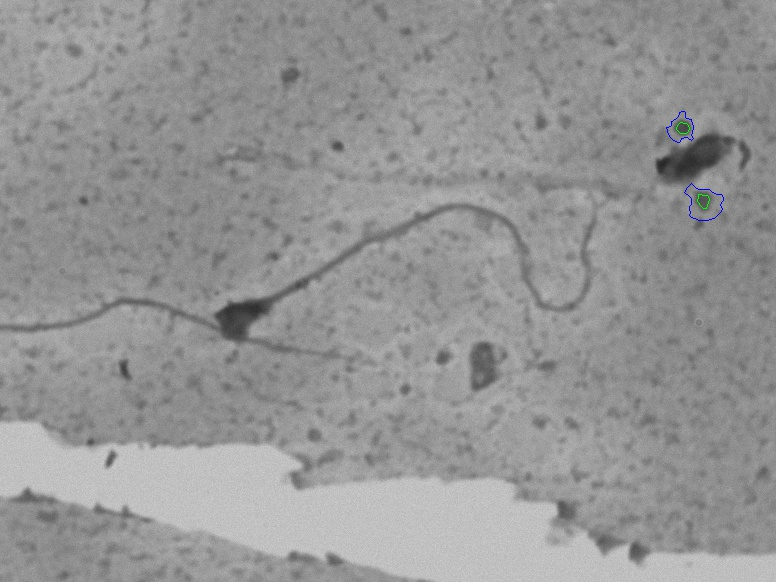Abnormal: (189, 162, 635, 371)
